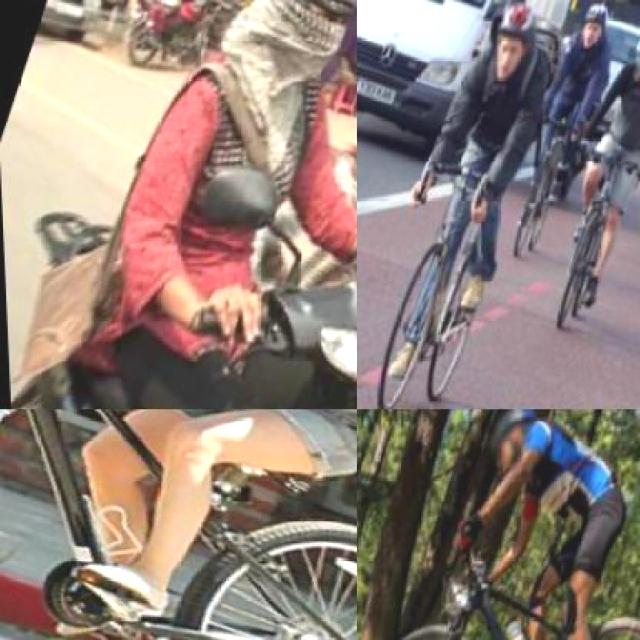With Helmet: (219, 0, 355, 118), (472, 0, 548, 91), (475, 409, 543, 478), (561, 0, 617, 63), (623, 18, 639, 91)
